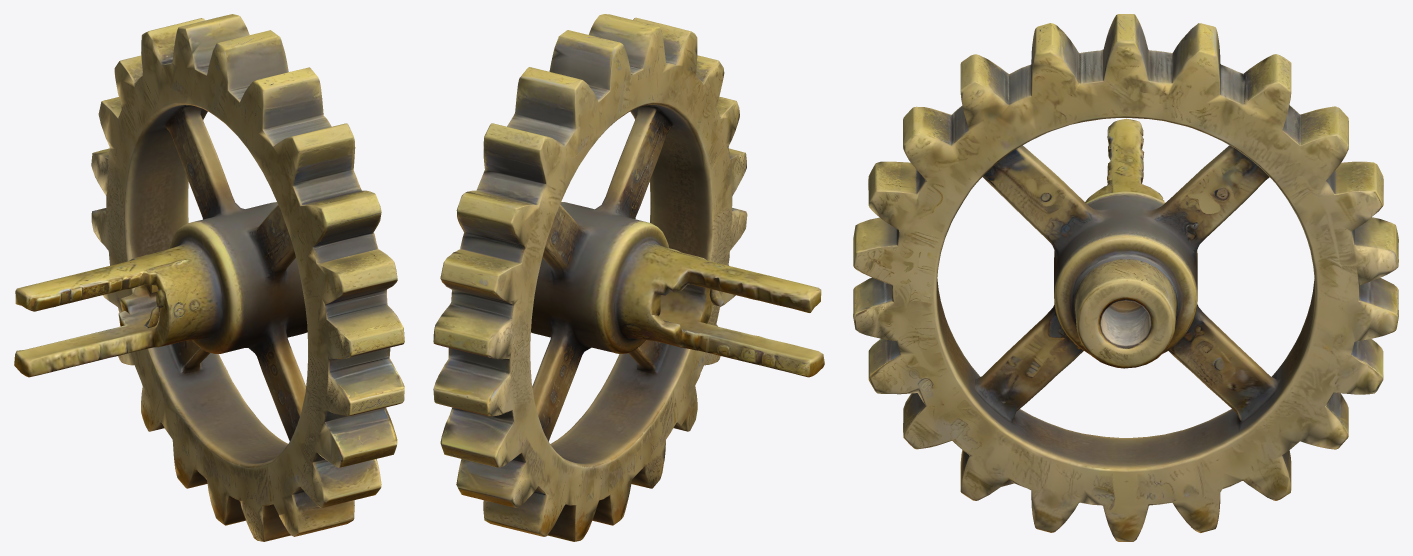
File: brass.fbx
The picture shows the model from 3 angles, left to right: view 1: azimuth 30°, elevation 25°; view 2: azimuth 150°, elevation 25°; view 3: azimuth 270°, elevation 25°; orthographic projection. The views are drawn at different scales.
Parts seen in each view (by area): view 1: tripo_node_809f9511; view 2: tripo_node_809f9511; view 3: tripo_node_809f9511.
Part boxes in pixels (x1=…): tripo_node_809f9511: x1=14, y1=14, x2=404, y2=541; tripo_node_809f9511: x1=433, y1=14, x2=824, y2=541; tripo_node_809f9511: x1=853, y1=14, x2=1398, y2=541.
Bounding box in the file's own units: 0.7007 × 0.9998 × 0.9868.
1 material, 1 textured.
